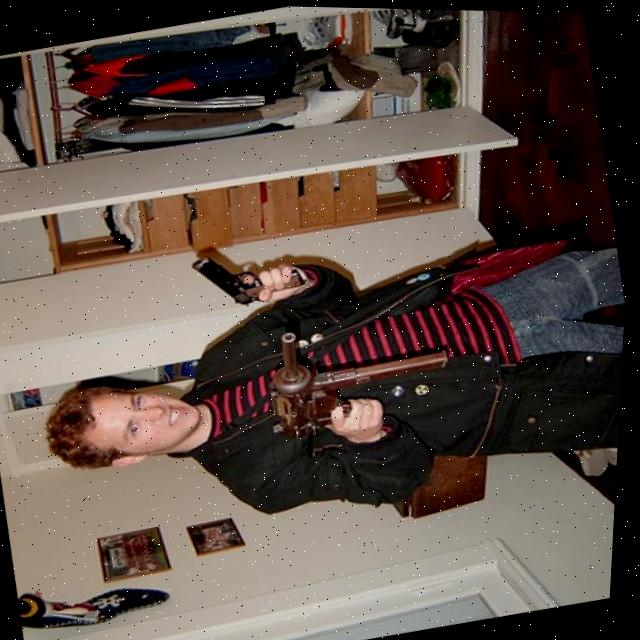firearm: (262, 299, 468, 445)
pistol: (190, 244, 273, 317)
